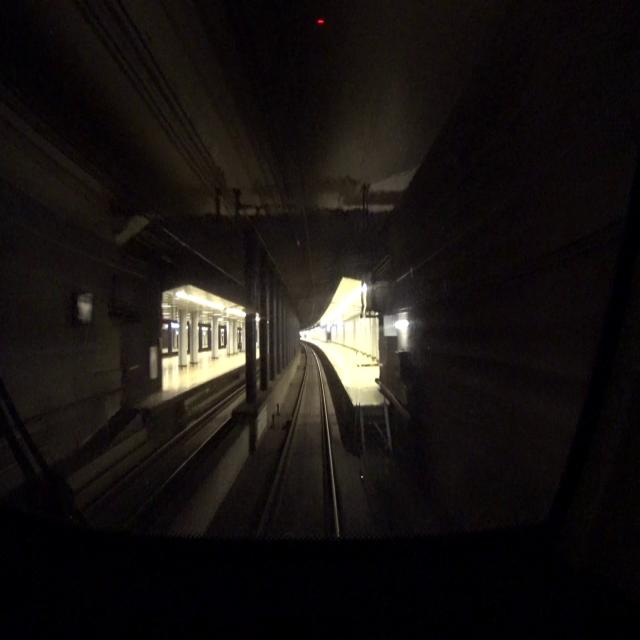rail-track: (91, 388, 245, 530), (261, 348, 335, 539)
